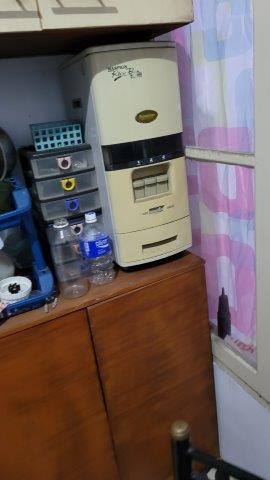botolplastik: (83, 213, 121, 285), (56, 221, 82, 297)
